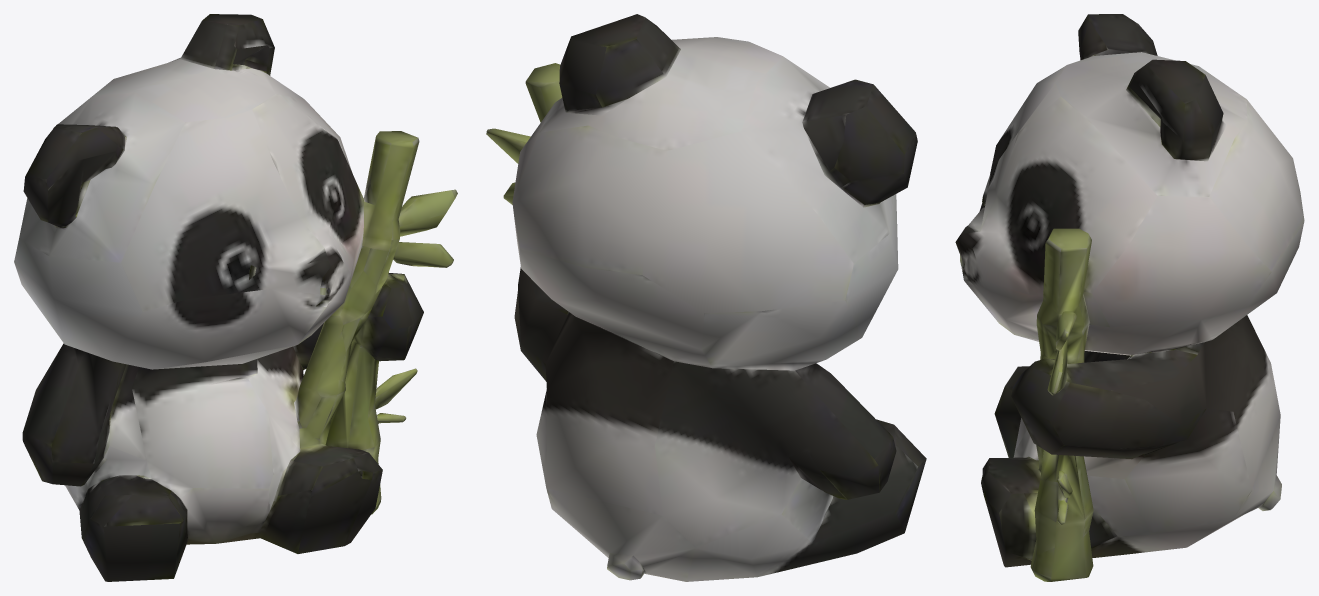
File: Panda.glb
3 views of the same model, side by side, from view 1: azimuth 30°, elevation 25°; view 2: azimuth 150°, elevation 25°; view 3: azimuth 270°, elevation 25° (orthographic). The views are drawn at different scales.
Visible parts, largest first — view 1: 3d66-Editable_Poly-23417356-001; view 2: 3d66-Editable_Poly-23417356-001; view 3: 3d66-Editable_Poly-23417356-001.
Boxes of the visible parts, bbox=[...] form: 3d66-Editable_Poly-23417356-001: bbox=[14, 14, 457, 581]; 3d66-Editable_Poly-23417356-001: bbox=[486, 14, 926, 581]; 3d66-Editable_Poly-23417356-001: bbox=[955, 14, 1304, 581].
Size of the model in its own units: 0.8505 by 0.953 by 0.6231.
Materials: 1 (1 with a texture image).
